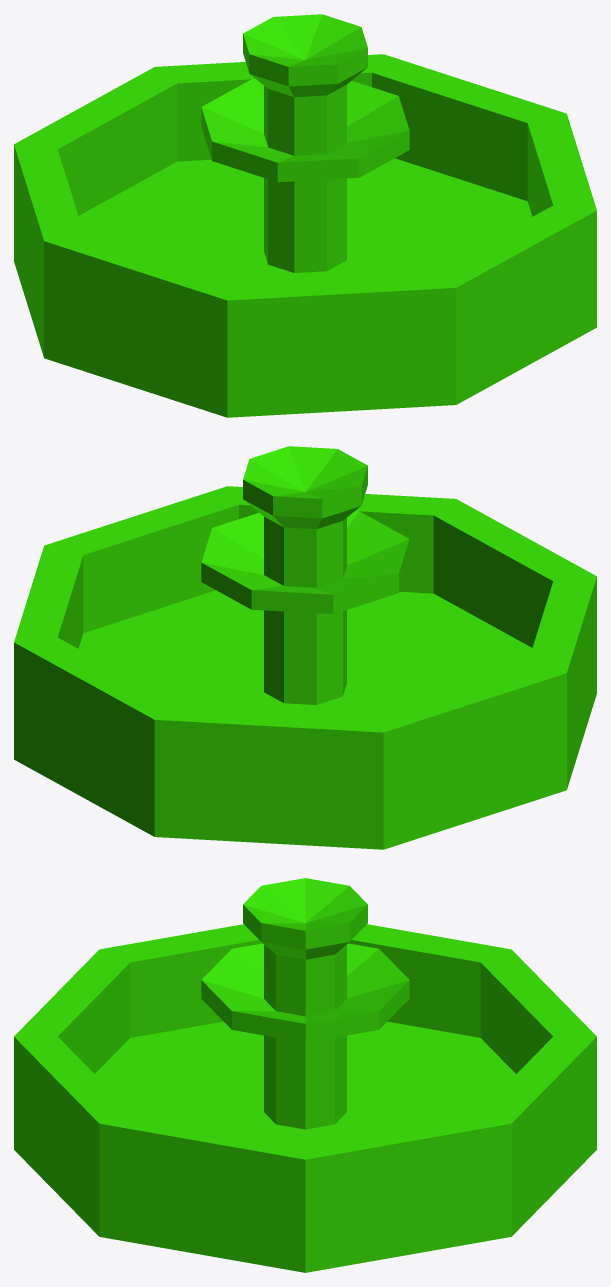
3 renders of one model, top to bottom at view 1: azimuth 30°, elevation 25°; view 2: azimuth 150°, elevation 25°; view 3: azimuth 270°, elevation 25°, orthographic. The views are drawn at different scales.
Visible parts, largest first — view 1: fountain01_round; view 2: fountain01_round; view 3: fountain01_round.
Boxes of the visible parts, bbox=[...] form: fountain01_round: bbox=[14, 14, 596, 417]; fountain01_round: bbox=[14, 446, 596, 849]; fountain01_round: bbox=[14, 878, 596, 1272].
Bounding box in the file's own units: 2.8 × 1.3 × 2.8.
